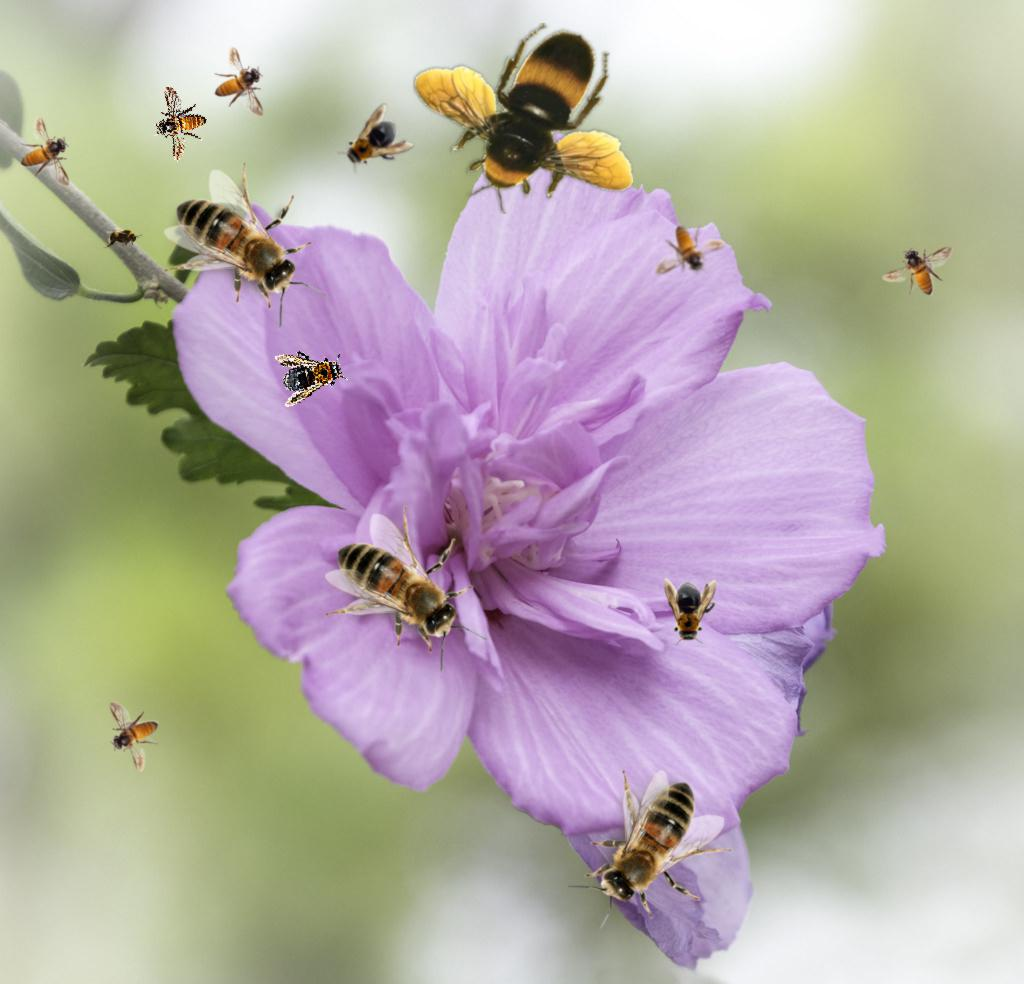Bee: (413, 23, 633, 214), (566, 770, 733, 932), (164, 161, 326, 328), (325, 505, 487, 672), (330, 102, 416, 186), (146, 84, 214, 167), (272, 340, 352, 408), (20, 116, 70, 187), (214, 46, 264, 117), (109, 701, 159, 772), (882, 246, 953, 296), (655, 225, 726, 275), (664, 578, 716, 646), (103, 227, 143, 249)
